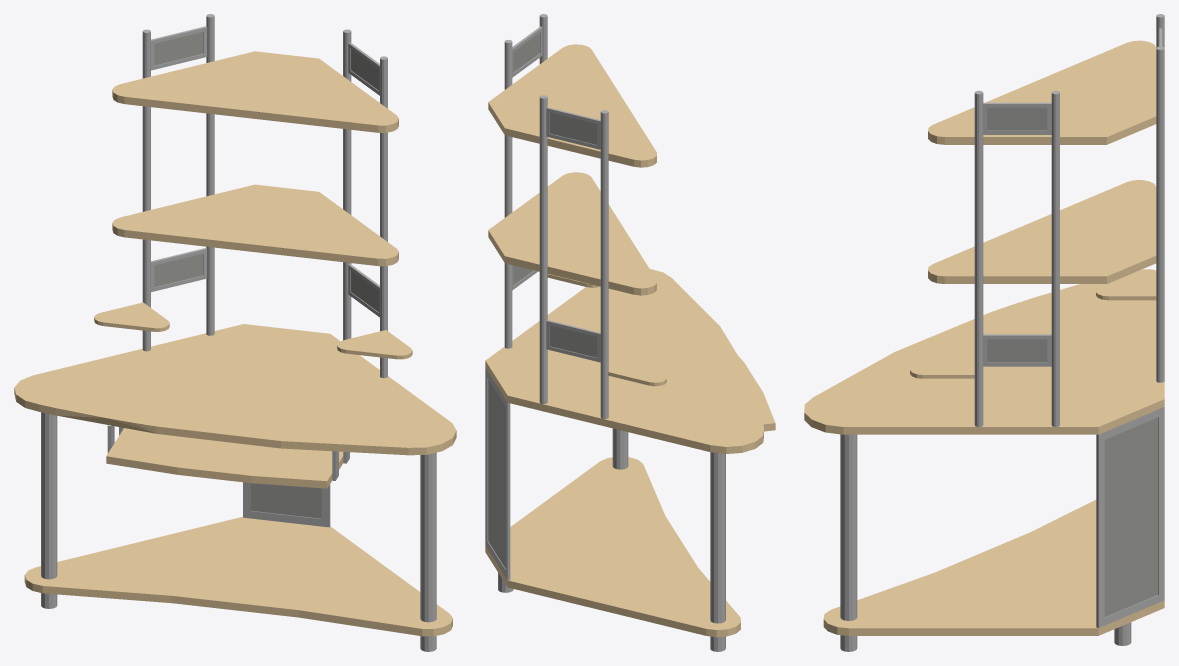
File: desk-by-cmht-oculus-bjHo_aDTOas.glb
The picture shows the model from 3 angles, left to right: view 1: azimuth 30°, elevation 25°; view 2: azimuth 150°, elevation 25°; view 3: azimuth 270°, elevation 25°; orthographic projection. The views are drawn at different scales.
Parts seen in each view (by area): view 1: Node; view 2: Node; view 3: Node.
Part boxes in pixels (x1,y1,x2,y2): Node: [14, 14, 456, 651]; Node: [485, 14, 775, 651]; Node: [804, 14, 1164, 651].
Bounding box in the file's own units: 42.09 × 73 × 42.22.
